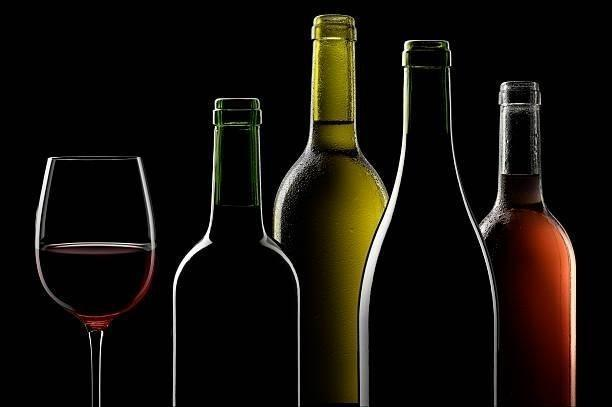bottle-glass: (356, 35, 501, 407), (268, 10, 395, 407), (168, 92, 304, 407), (472, 76, 580, 407)
glass-wine: (33, 153, 158, 407)
